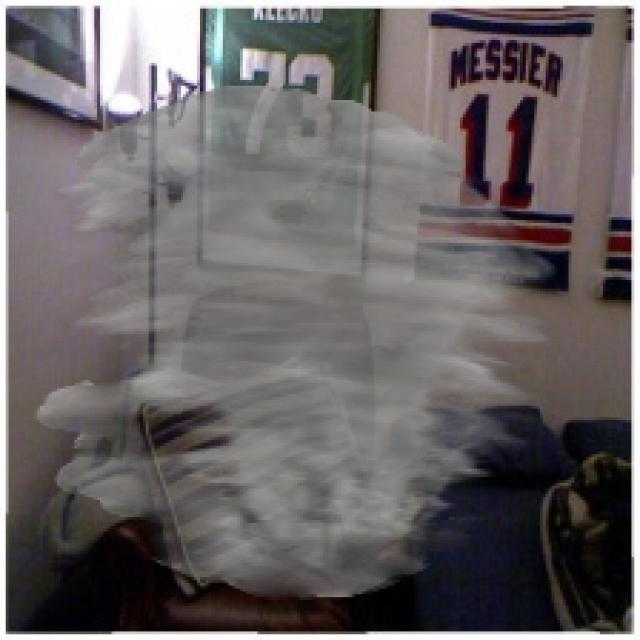smoke: (34, 86, 563, 600)
